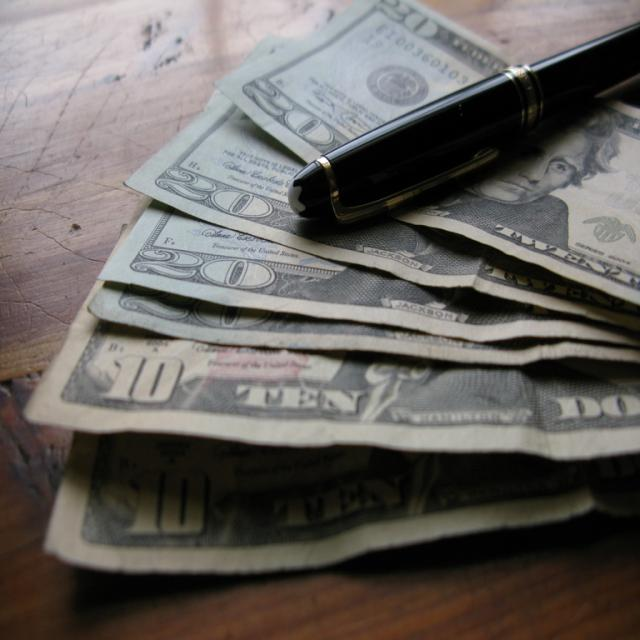pen: (282, 20, 640, 227)
